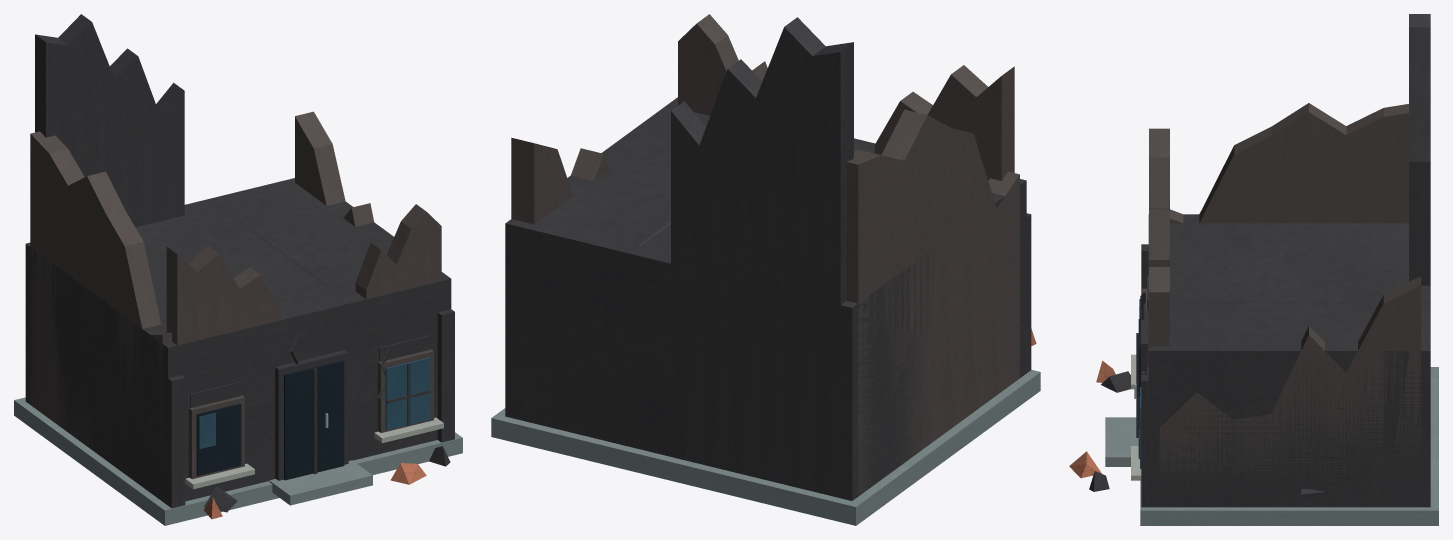
File: apartment-ruined-lod.glb
3 views of the same model, side by side, from view 1: azimuth 30°, elevation 25°; view 2: azimuth 150°, elevation 25°; view 3: azimuth 270°, elevation 25° (orthographic). The views are drawn at different scales.
Visible parts, largest first — view 1: apartment-ruined-lod; view 2: apartment-ruined-lod; view 3: apartment-ruined-lod.
Part boxes in pixels (bbox=[...]): apartment-ruined-lod: bbox=[14, 14, 462, 525]; apartment-ruined-lod: bbox=[491, 14, 1040, 525]; apartment-ruined-lod: bbox=[1069, 14, 1438, 525].
Size of the model in its own units: 5.68 by 7.09 by 6.17.
3 materials, 3 textured.
